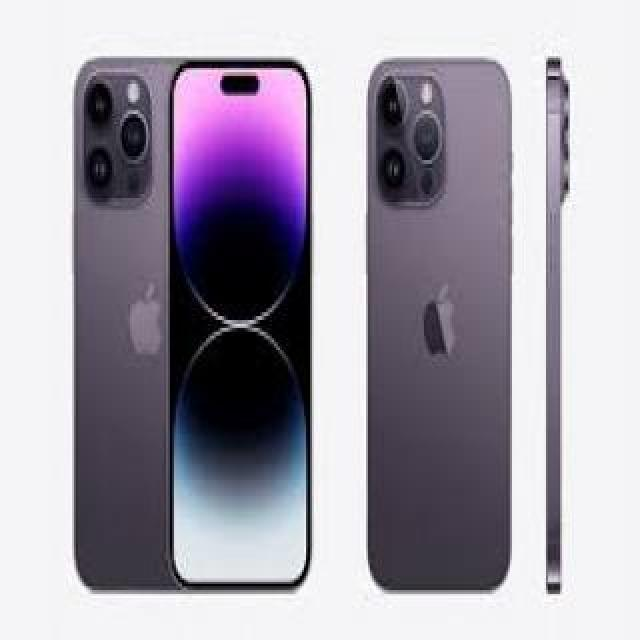smart phone: (142, 35, 330, 515), (362, 48, 515, 600), (74, 42, 168, 590), (533, 46, 585, 612)
